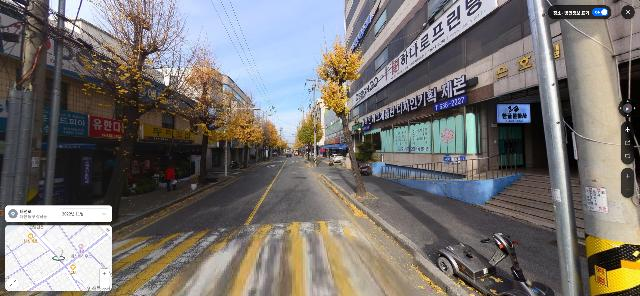ginkgo: (51, 0, 202, 222), (163, 32, 241, 186), (315, 23, 367, 197), (215, 97, 259, 169), (241, 106, 268, 163), (296, 118, 323, 161), (257, 118, 278, 160)
